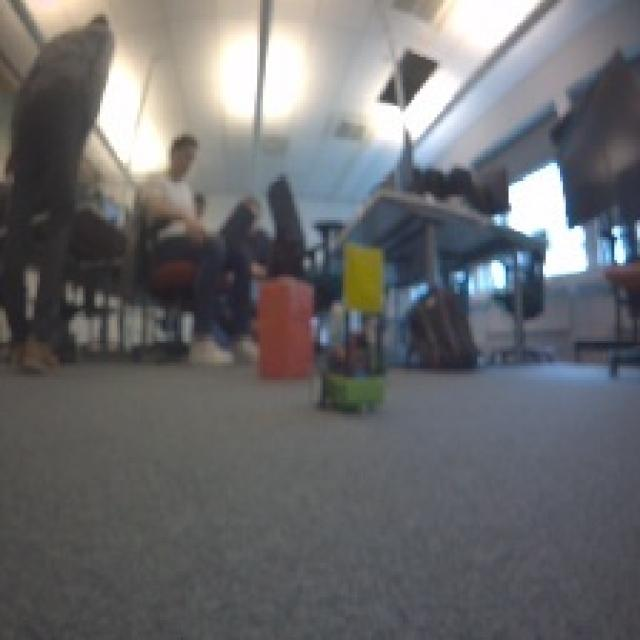robot: (314, 340, 391, 420)
target: (252, 271, 317, 380)
